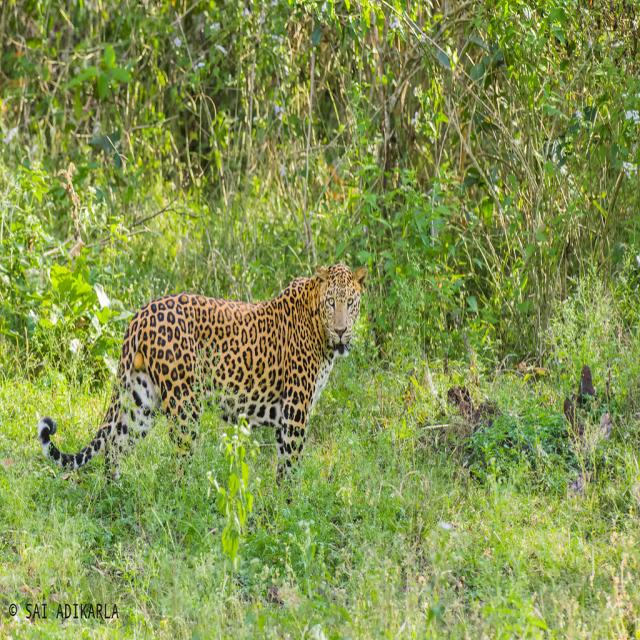Leopard: (41, 267, 367, 493)
